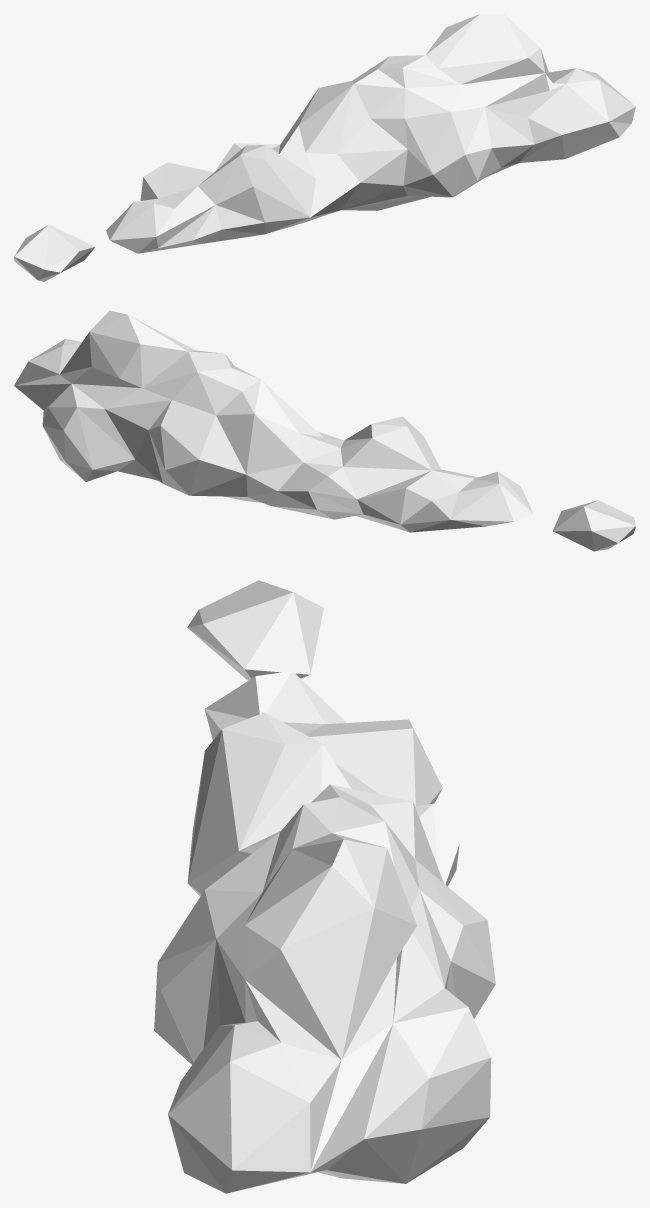
The model's file is Big_Cloud_01.glb.
The picture shows the model from 3 angles, top to bottom: view 1: azimuth 30°, elevation 25°; view 2: azimuth 150°, elevation 25°; view 3: azimuth 270°, elevation 25°; orthographic projection. The views are drawn at different scales.
Parts seen in each view (by area): view 1: SM_Gen_Env_Cloud_01; view 2: SM_Gen_Env_Cloud_01; view 3: SM_Gen_Env_Cloud_01.
Part boxes in pixels (<box>): SM_Gen_Env_Cloud_01: <box>14,14,635,281</box>; SM_Gen_Env_Cloud_01: <box>14,310,635,551</box>; SM_Gen_Env_Cloud_01: <box>154,580,495,1193</box>.
Size of the model in its own units: 41.95 by 10.37 by 10.1.
Materials: 1 (1 with a texture image).
